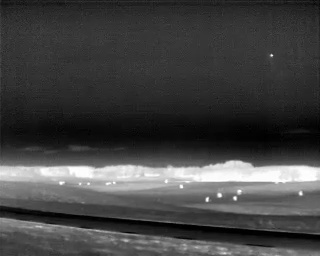BIRD: (268, 51, 276, 60)
